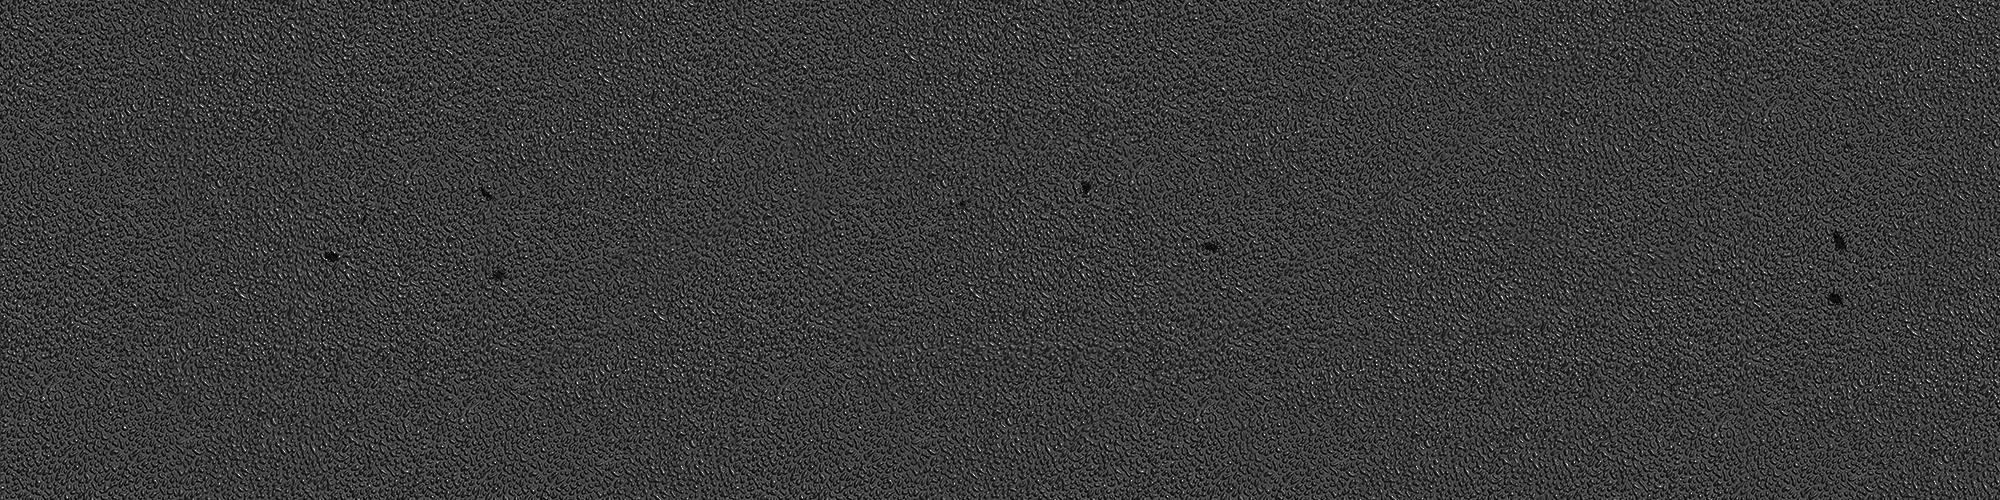Decomposed: (474, 182, 506, 208), (1194, 237, 1230, 256), (483, 260, 506, 284), (318, 247, 346, 267), (1077, 177, 1099, 196)
